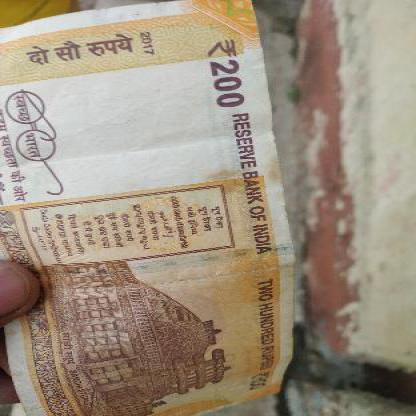New200Back: (0, 1, 291, 415)
